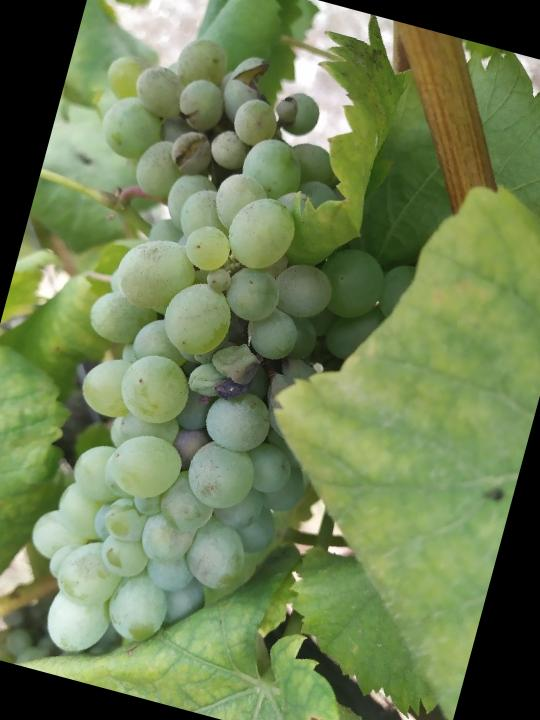grape: (0, 14, 438, 712)
